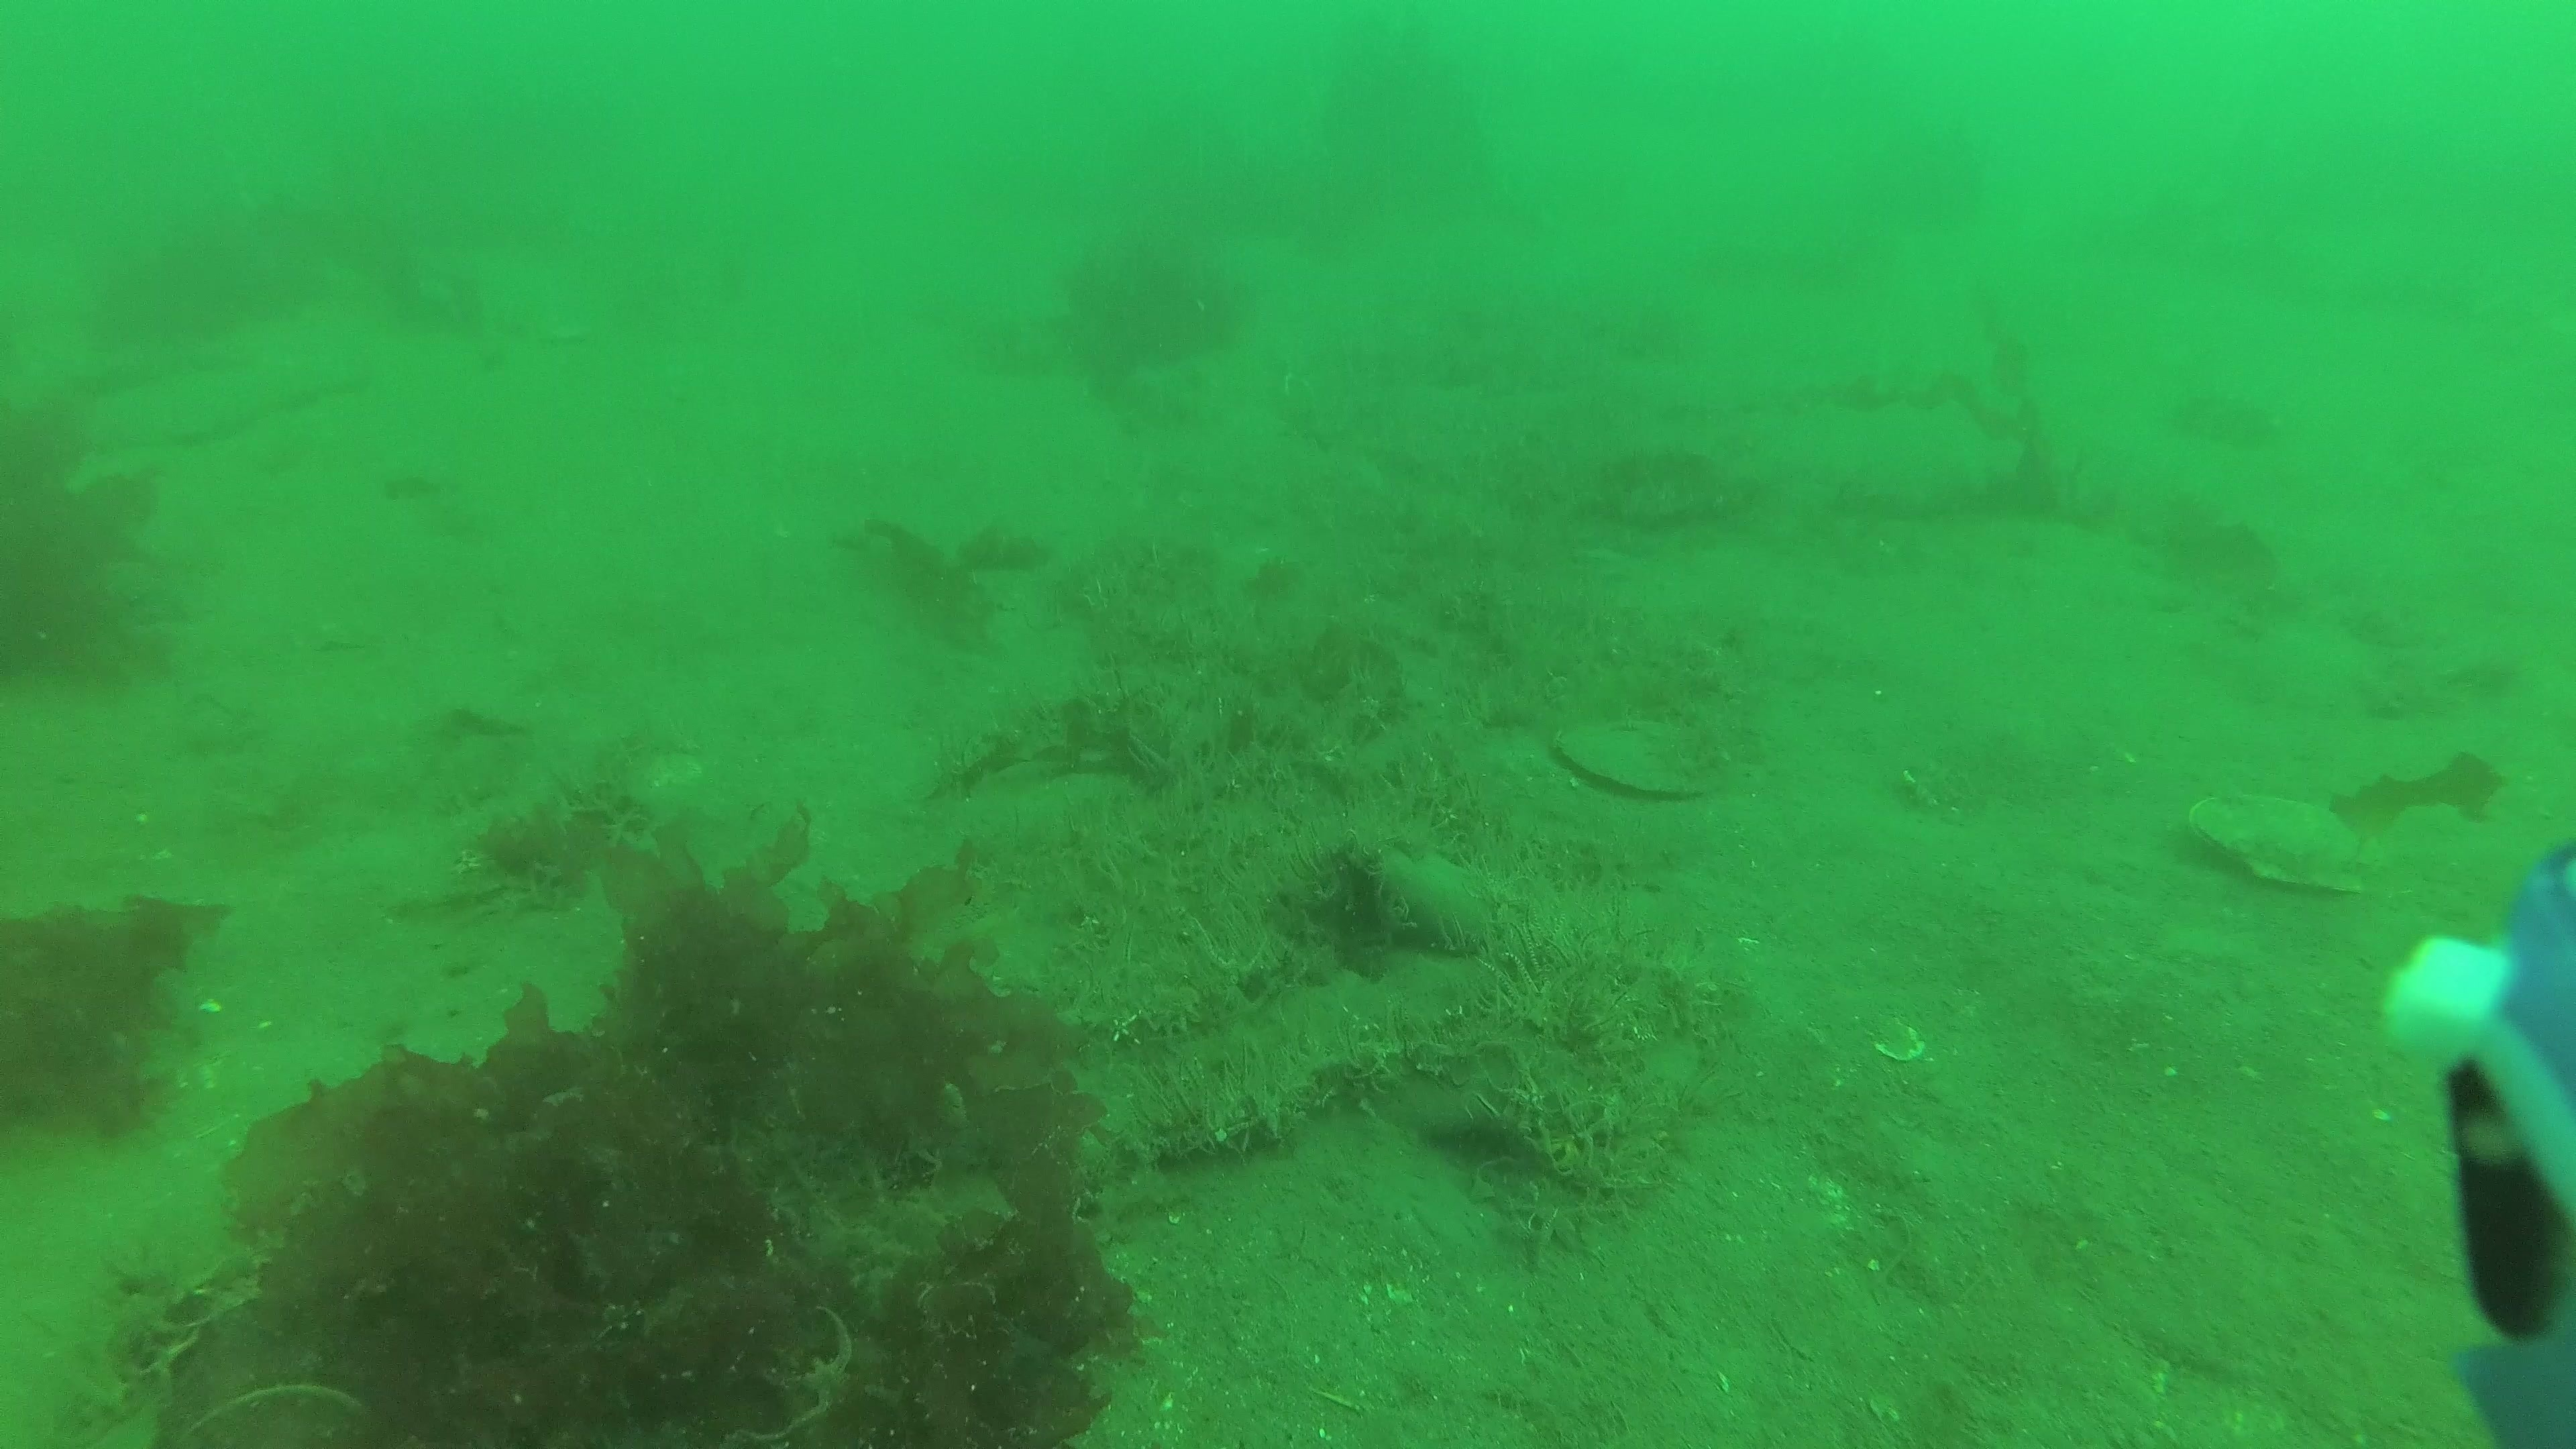scallop: (2189, 794, 2371, 893), (1552, 720, 1707, 801)
